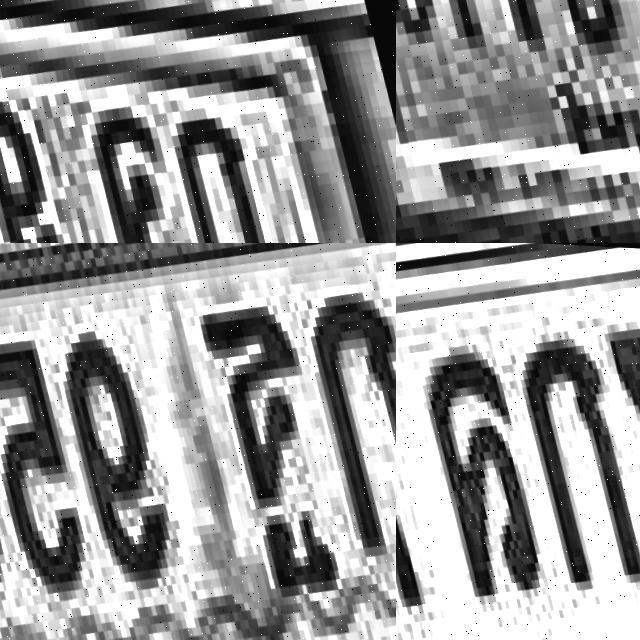license-plate: (0, 243, 396, 640), (396, 243, 640, 640), (0, 0, 396, 243), (396, 0, 640, 243)
